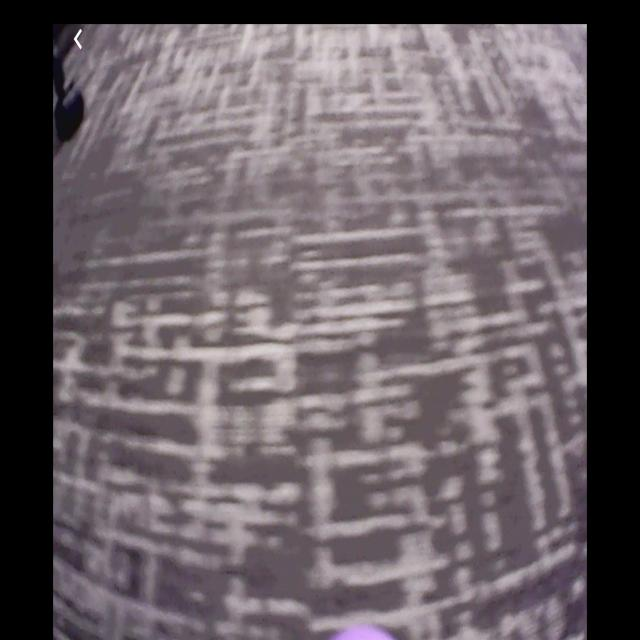ball: (329, 617, 397, 640)
